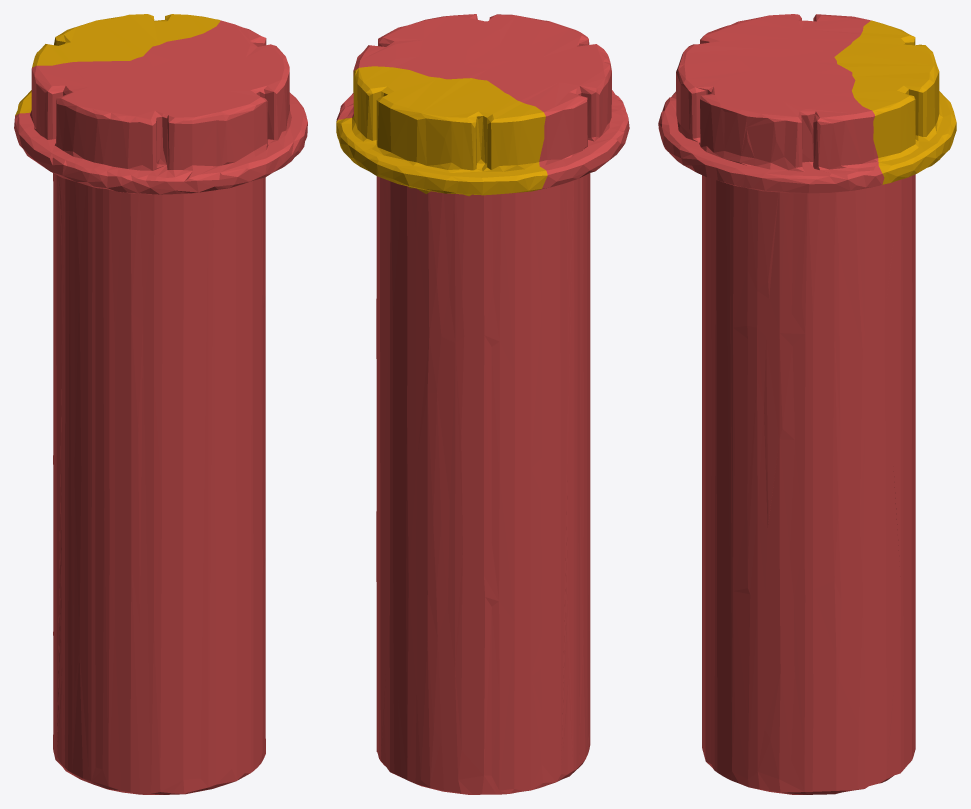
File: fractured_12_2pcs.glb
The picture shows the model from 3 angles, left to right: view 1: azimuth 30°, elevation 25°; view 2: azimuth 150°, elevation 25°; view 3: azimuth 270°, elevation 25°; orthographic projection.
Visible parts, largest first — view 1: piece_1.obj, piece_0.obj; view 2: piece_1.obj, piece_0.obj; view 3: piece_1.obj, piece_0.obj.
Part boxes in pixels (x1,y1,x2,y2): piece_1.obj: (14, 20, 307, 794); piece_0.obj: (15, 14, 220, 115); piece_1.obj: (336, 14, 629, 794); piece_0.obj: (336, 66, 547, 196); piece_1.obj: (658, 14, 915, 794); piece_0.obj: (834, 20, 956, 184).
Size of the model in its own units: 0.3863 by 1 by 0.3933.
